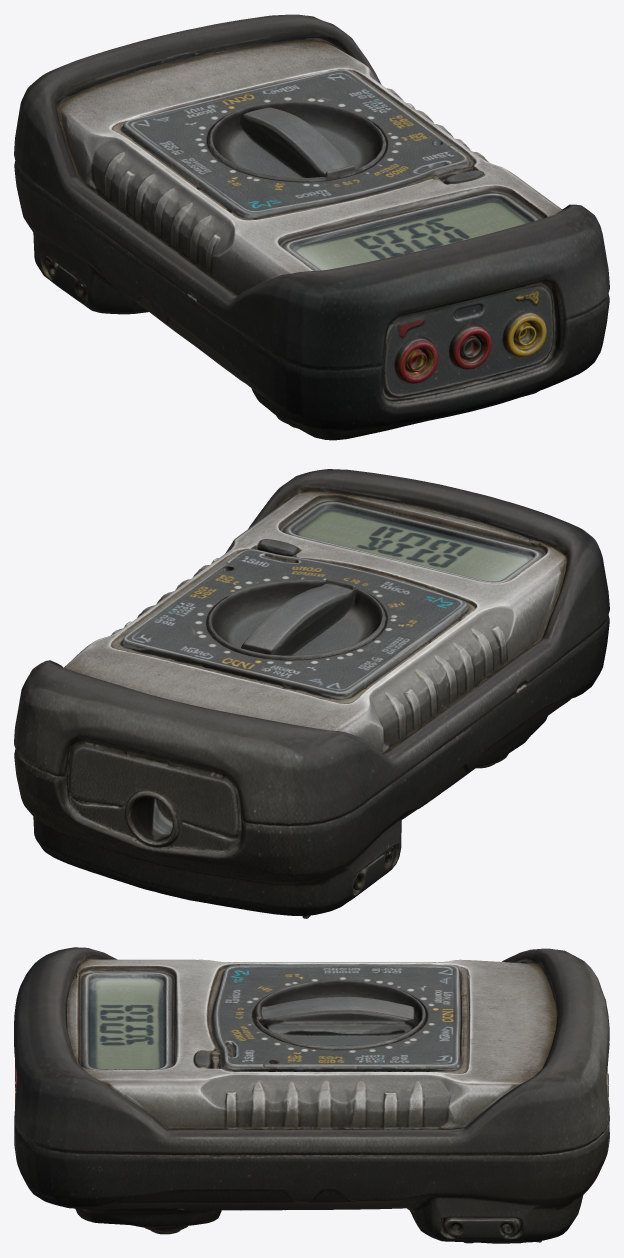
Rendered from VoltageMeter.glb.
3 renders of one model, top to bottom at view 1: azimuth 30°, elevation 25°; view 2: azimuth 150°, elevation 25°; view 3: azimuth 270°, elevation 25°, orthographic. The views are drawn at different scales.
Visible parts, largest first — view 1: texture_mapping; view 2: texture_mapping; view 3: texture_mapping.
Boxes of the visible parts, <box> form: texture_mapping: <box>14,14,609,440</box>; texture_mapping: <box>14,469,609,918</box>; texture_mapping: <box>14,947,609,1243</box>.
Size of the model in its own units: 0.5918 by 0.3492 by 0.9999.
1 material, 1 textured.
